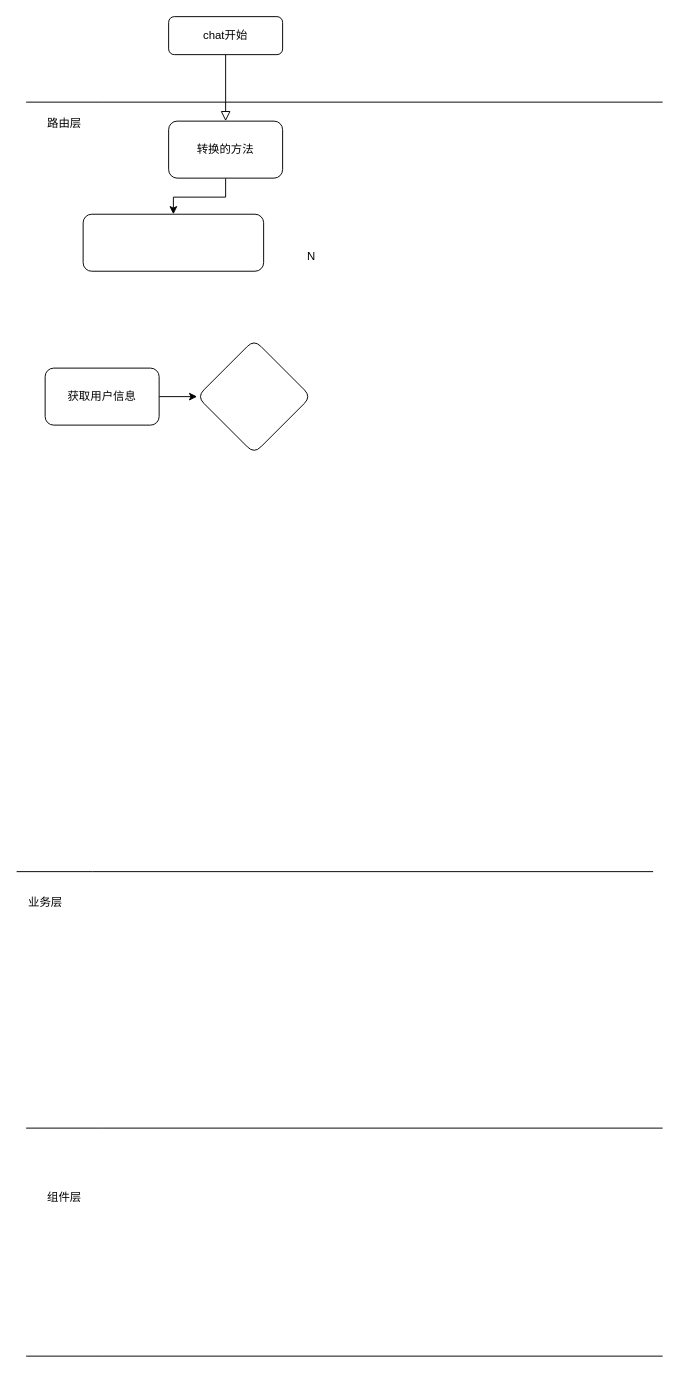
The diagram is 680 pixels wide and 1374 high, and some of its shapes have lost their labels. Here are the shapes that lost their labels. From the top down, the box of each, then its label:
(82, 213, 264, 271): 获取基本信息的方法
(196, 339, 311, 454): 获取额度信息，判断是否有额度
